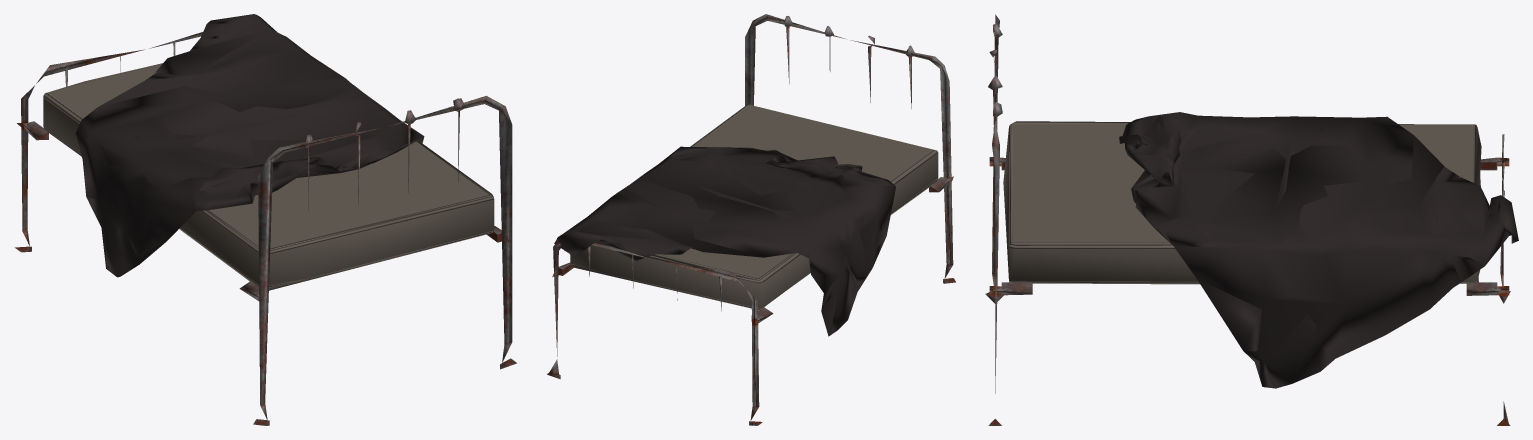
File: hosp-bed-old.lod1.glb
3 renders of one model, left to right at view 1: azimuth 30°, elevation 25°; view 2: azimuth 150°, elevation 25°; view 3: azimuth 270°, elevation 25°, orthographic. The views are drawn at different scales.
Visible parts, largest first — view 1: mattress_mattress_0, bed_bed_0; view 2: mattress_mattress_0, bed_bed_0; view 3: mattress_mattress_0, bed_bed_0.
Boxes of the visible parts, x1,y1,x2,y2 form: mattress_mattress_0: (43,14,494,290); bed_bed_0: (14,32,516,425); mattress_mattress_0: (554,104,938,336); bed_bed_0: (547,14,955,425); mattress_mattress_0: (1003,112,1518,388); bed_bed_0: (985,14,1510,425).
Size of the model in its own units: 1.4 by 1.37 by 2.2.
Materials: 2 (1 with a texture image).
